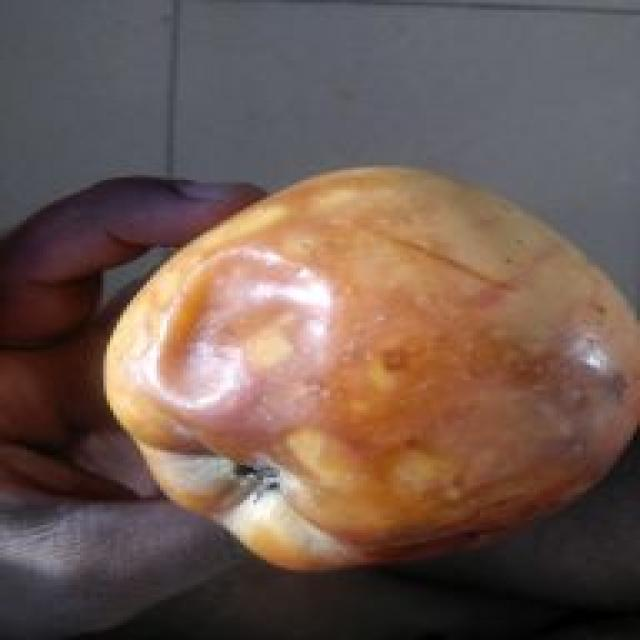Bad_Apple: (105, 168, 638, 568)
